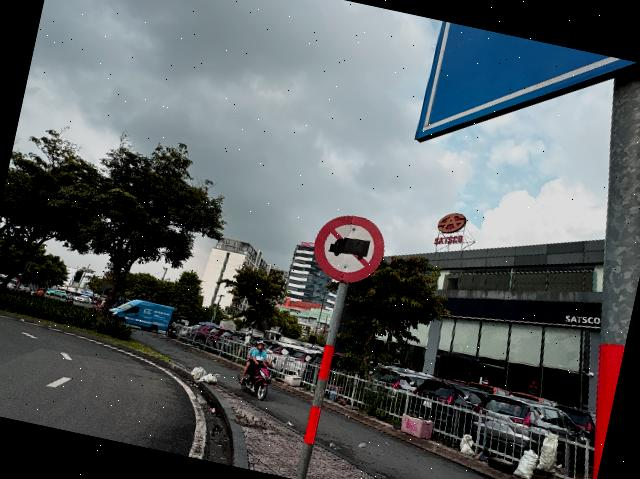cam-xe-tai: (308, 208, 390, 290)
